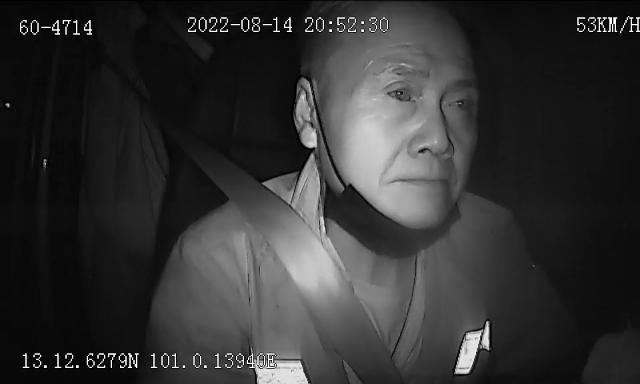SafeDriving: (379, 73, 422, 112), (438, 82, 479, 119)
Seatbelt: (184, 138, 403, 384)
